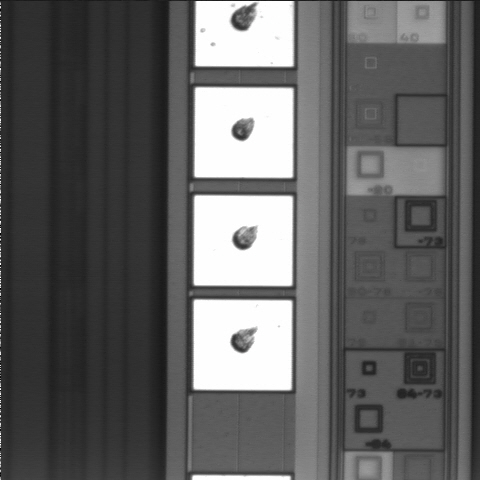pad: (194, 87, 293, 178), (194, 195, 293, 286), (194, 300, 292, 390)
